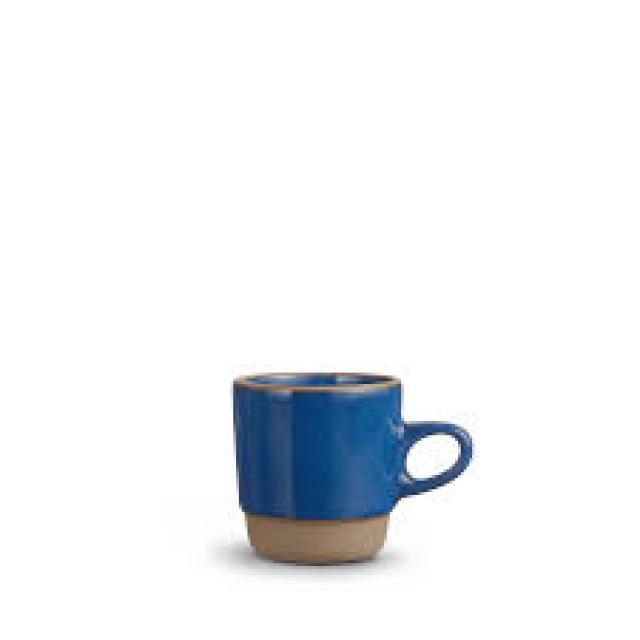taza: (234, 367, 473, 568)
